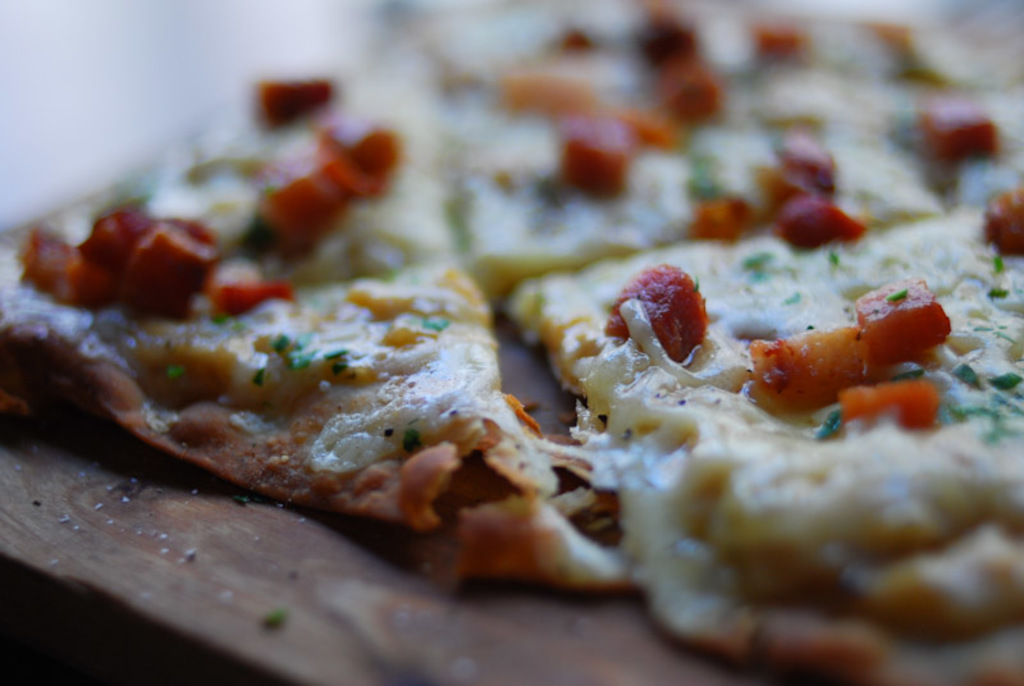Pizza: (0, 29, 1024, 677)
